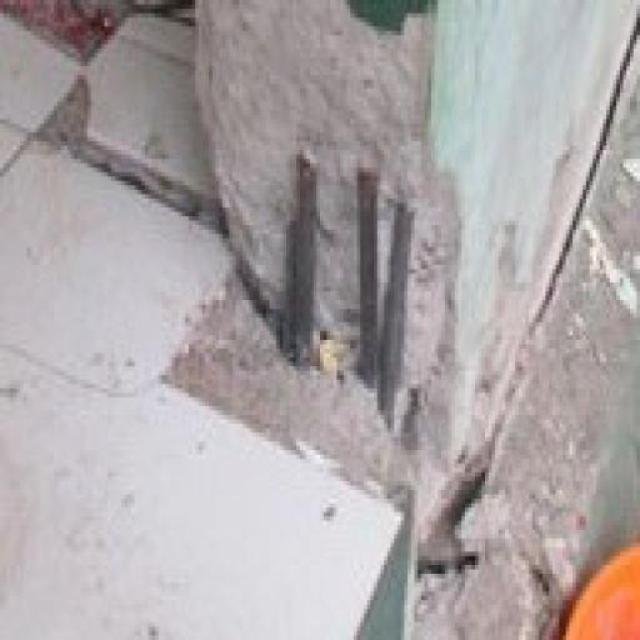D0w0: (196, 0, 452, 442)
